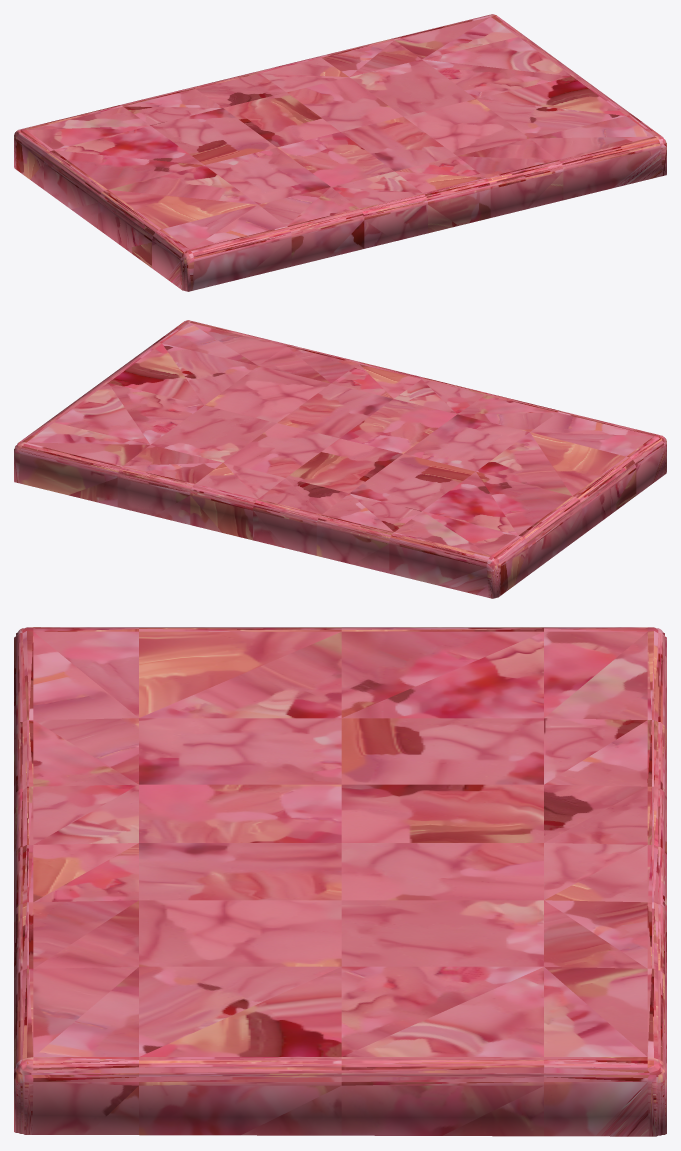
The model's file is Vessel.fbx.
3 renders of one model, top to bottom at view 1: azimuth 30°, elevation 25°; view 2: azimuth 150°, elevation 25°; view 3: azimuth 270°, elevation 25°, orthographic. The views are drawn at different scales.
Parts seen in each view (by area): view 1: Mesh_0; view 2: Mesh_0; view 3: Mesh_0.
Part boxes in pixels (x1,y1,x2,y2): Mesh_0: [14, 14, 666, 291]; Mesh_0: [14, 320, 666, 598]; Mesh_0: [14, 627, 666, 1136].
Size of the model in its own units: 1.91 by 0.145 by 1.19.
